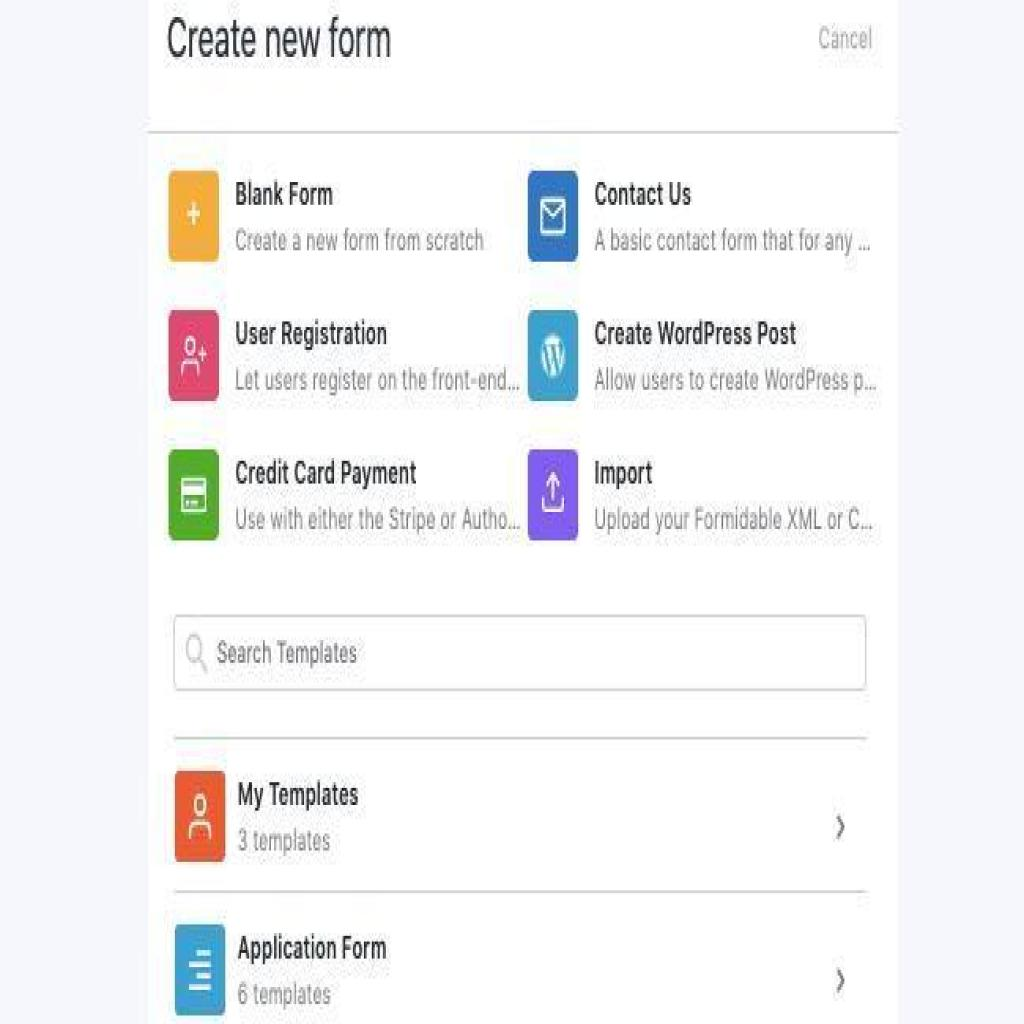icon: (166, 302, 226, 410), (169, 768, 230, 873), (162, 444, 226, 543), (528, 438, 583, 549), (523, 165, 583, 265), (167, 916, 224, 1021), (167, 165, 224, 267), (526, 296, 581, 401), (832, 802, 858, 851), (829, 956, 852, 1004)
input: (175, 614, 866, 688)
label: (584, 308, 800, 358), (233, 449, 424, 498), (236, 930, 394, 976), (235, 313, 392, 353), (238, 774, 367, 819), (232, 176, 346, 219), (592, 176, 688, 216), (586, 452, 657, 495)
